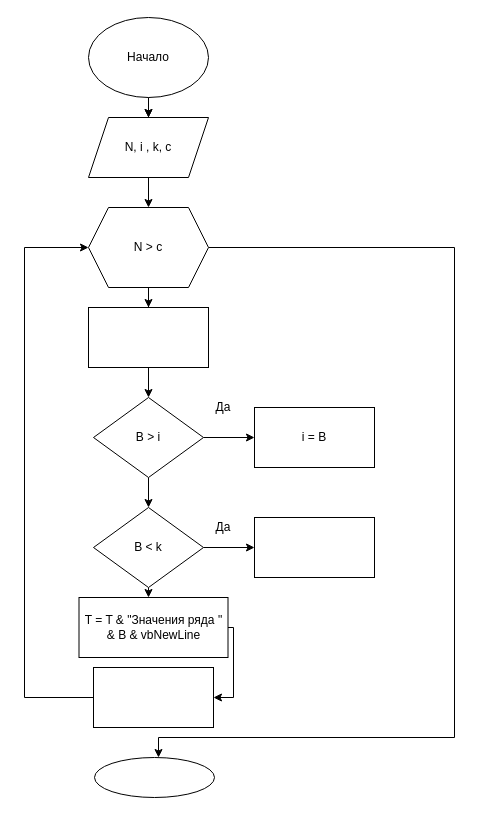
The diagram is 480 pixels wide and 815 high, and some of its shapes have lost their labels. Here are the shapes that lost their labels. From the top down, the centre of each, then its label:
At pixel 148 337: "B = Int(Rnd*89)+10".
At pixel 314 547: "k = B".
At pixel 153 697: "c = c + 1".
At pixel 154 777: "Конец".
